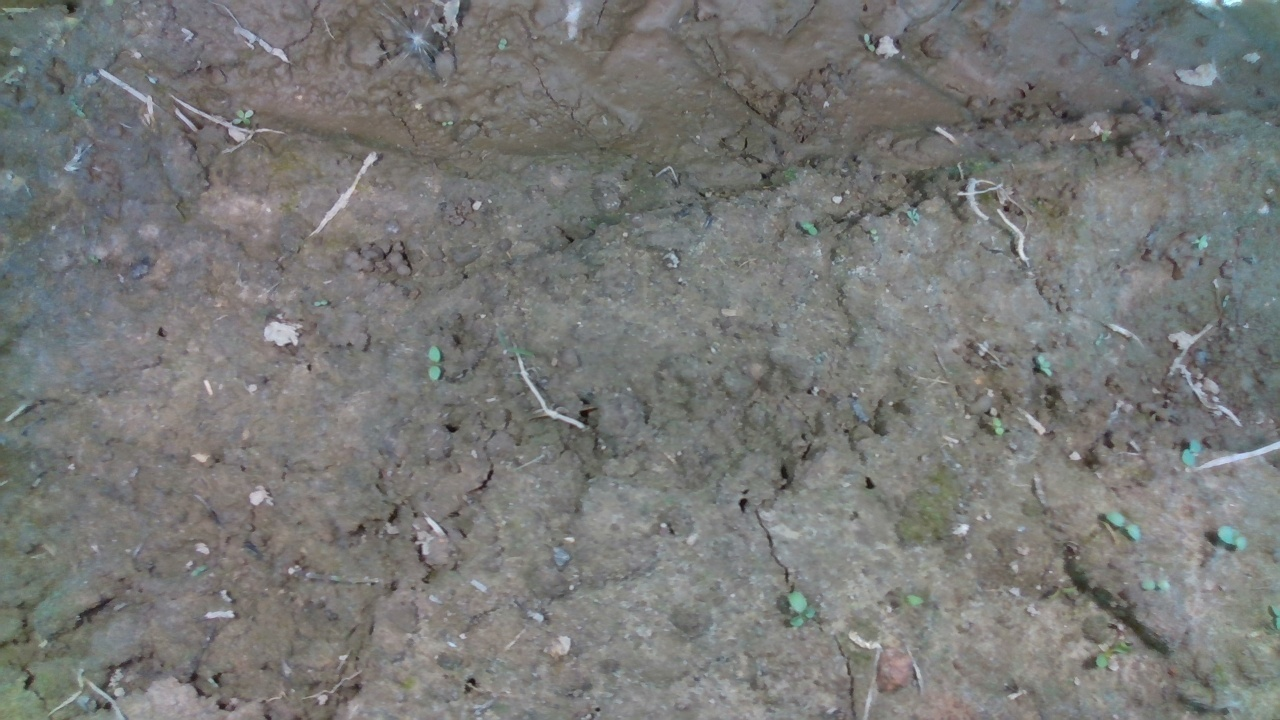weed: (1106, 508, 1145, 551), (783, 587, 820, 631), (1216, 521, 1250, 553), (421, 342, 446, 381), (1178, 438, 1203, 473), (1137, 577, 1172, 597), (794, 218, 823, 237), (313, 296, 328, 306)
